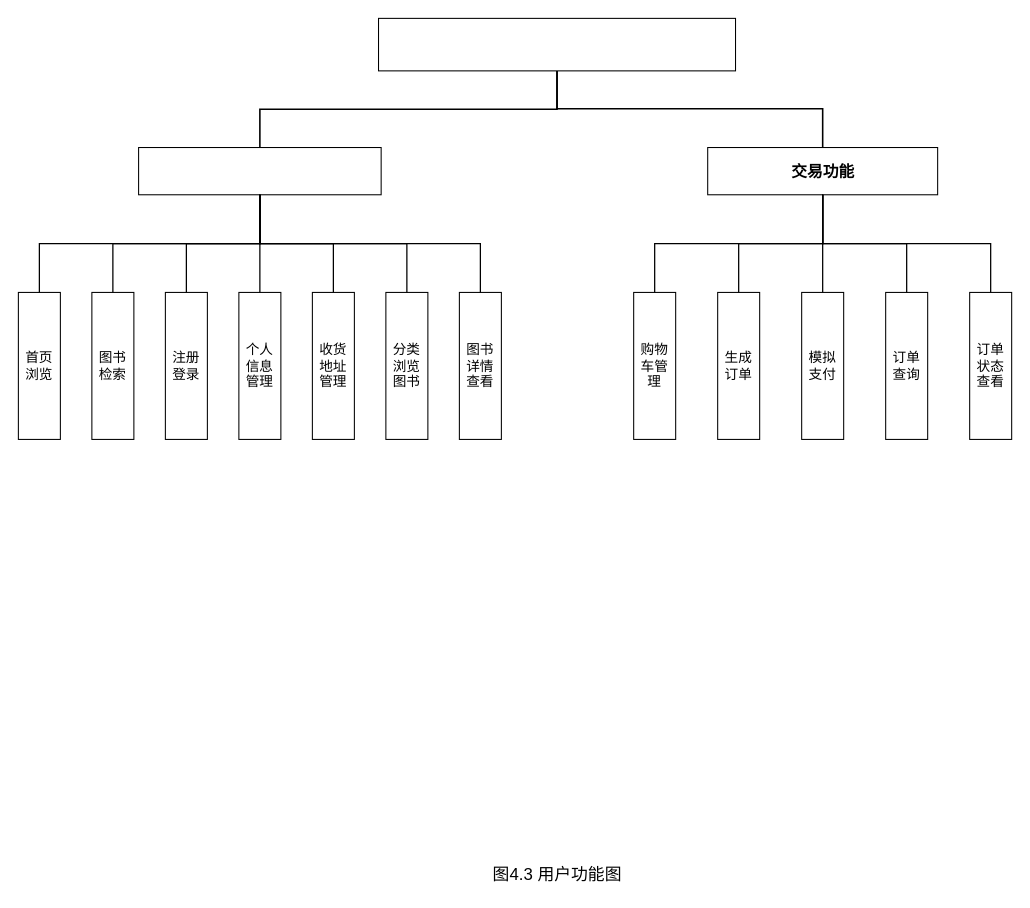
Some shapes in this 1030 by 908 pixel diagram are drawn without their labels. Each missing label, with the box of its shape:
基础功能: (138, 146, 381, 195)
用户: (377, 17, 736, 71)
